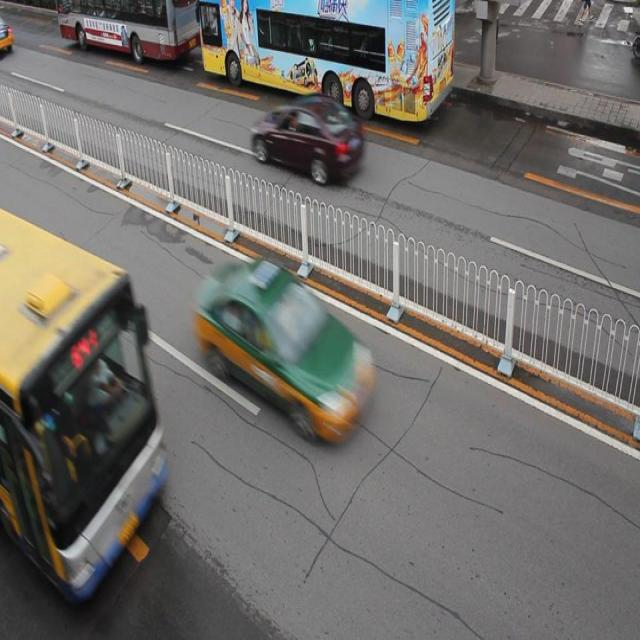car: (199, 257, 374, 439), (251, 92, 363, 182)
van: (1, 207, 166, 601), (199, 1, 454, 122), (56, 1, 202, 59)
